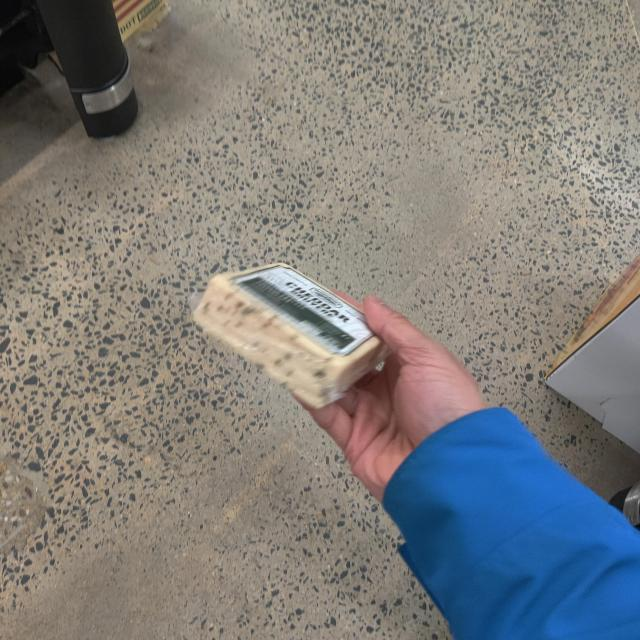Cheese: (191, 252, 384, 401)
